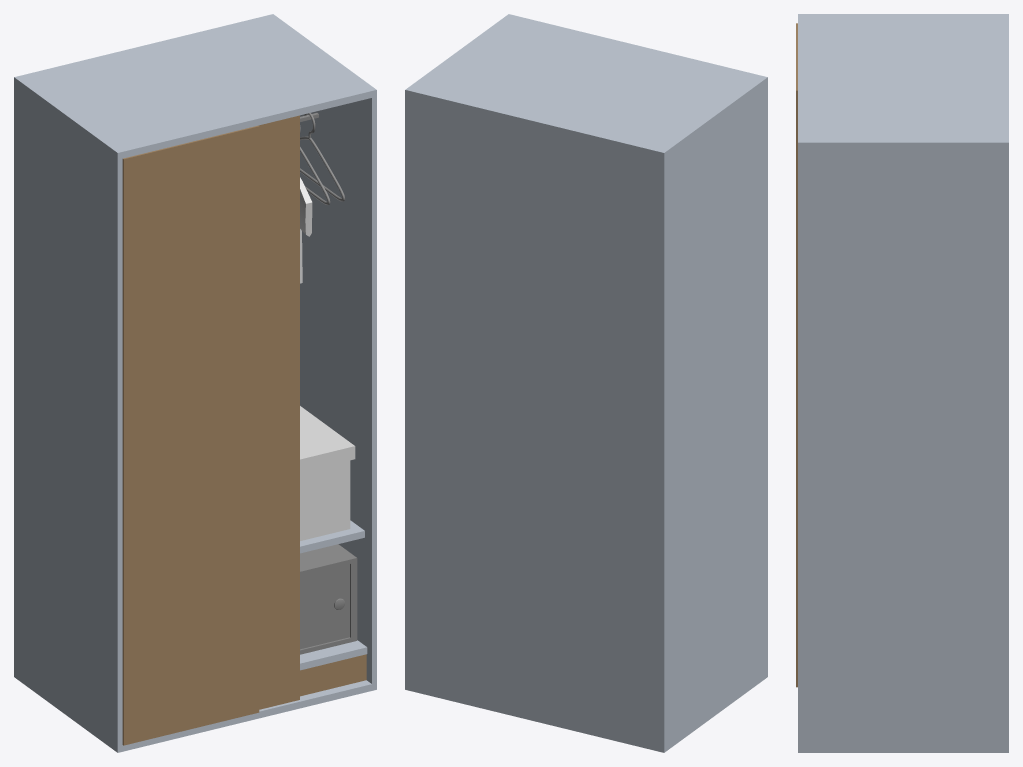
Rendered from Cabinet.002.fbx.
3 views of the same model, side by side, from view 1: azimuth 30°, elevation 25°; view 2: azimuth 150°, elevation 25°; view 3: azimuth 270°, elevation 25° (orthographic).
Parts seen in each view (by area): view 1: Cube.009, Cube.002, Cube.001, Cube.003, Cube.010, Box.001, Locker, Cabinet, Cube.005, Cube.004, Cube.006, Clothes.001; view 2: Cube.007, Cube.002, Cube.003, Cube.001; view 3: Cube.001, Cube.003, Cube.009, Cube.002.
Boxes of the visible parts, x1=… form: Cube.009: x1=122, y1=125, x2=259, y2=745; Cube.002: x1=14, y1=76, x2=122, y2=752; Cube.001: x1=268, y1=14, x2=376, y2=690; Cube.003: x1=19, y1=15, x2=371, y2=158; Cube.010: x1=258, y1=115, x2=299, y2=709; Box.001: x1=300, y1=406, x2=355, y2=540; Locker: x1=300, y1=544, x2=357, y2=654; Cabinet: x1=122, y1=680, x2=371, y2=751; Cube.005: x1=300, y1=654, x2=366, y2=696; Cube.004: x1=300, y1=640, x2=367, y2=670; Cube.006: x1=300, y1=520, x2=364, y2=553; Clothes.001: x1=300, y1=177, x2=312, y2=283; Cube.007: x1=410, y1=98, x2=659, y2=751; Cube.002: x1=659, y1=76, x2=767, y2=752; Cube.003: x1=410, y1=15, x2=762, y2=158; Cube.001: x1=405, y1=14, x2=513, y2=690; Cube.001: x1=798, y1=140, x2=1008, y2=752; Cube.003: x1=798, y1=16, x2=1008, y2=140; Cube.009: x1=796, y1=23, x2=797, y2=687; Cube.002: x1=798, y1=14, x2=1008, y2=16.
Bounding box in the file's own units: 79.4 × 176 × 55.52.
